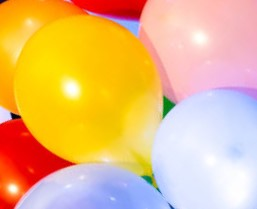Balloon: (12, 13, 161, 171), (152, 91, 257, 209), (138, 1, 257, 103)
